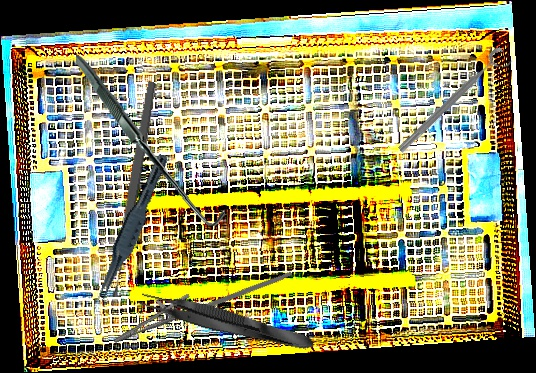Fixation Ring: (395, 45, 514, 162)
Hook Surgical: (70, 53, 231, 227)
Needle Holder: (105, 237, 294, 365)
Surgical Spoon: (107, 81, 159, 298)
Tissue Forceps: (137, 286, 317, 358), (91, 149, 170, 309)
